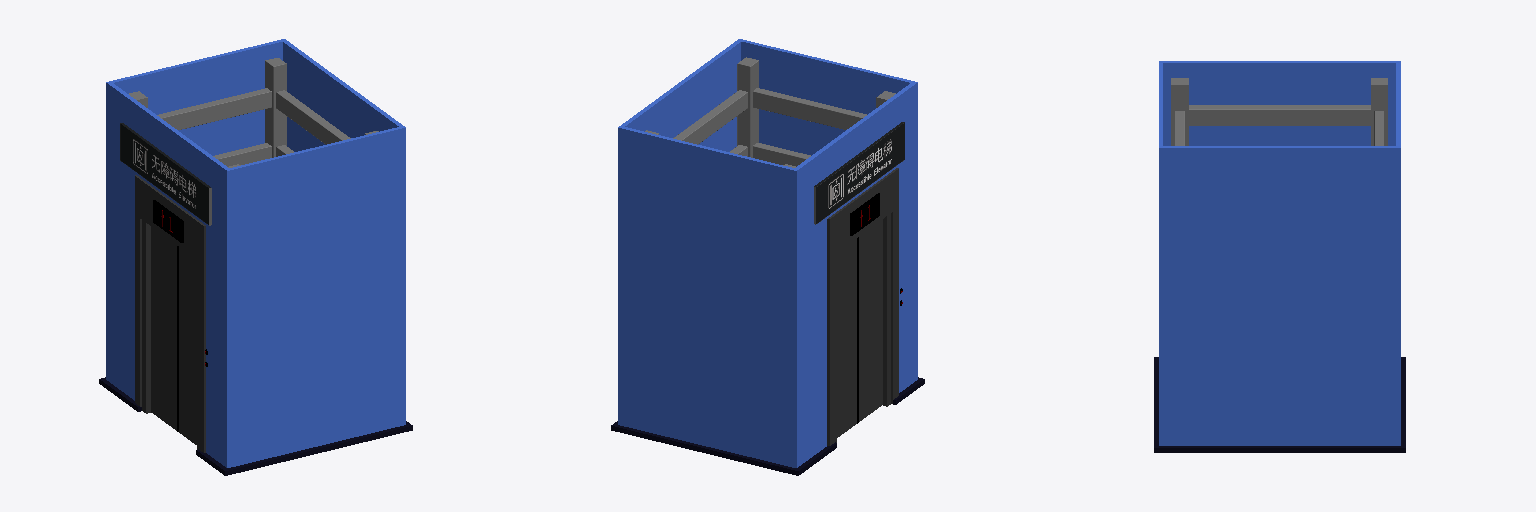
The picture shows the model from 3 angles: view 1: azimuth 30°, elevation 25°; view 2: azimuth 150°, elevation 25°; view 3: azimuth 270°, elevation 25°; orthographic projection.
Visible parts, largest first — view 1: Line085, Mesh112, Mesh115, ����11795, Mesh110, Mesh111; view 2: Line085, Mesh112, Mesh115, ����11795, Mesh110, Mesh111; view 3: Line085, Mesh115, Mesh110.
Part boxes in pixels (x1,y1,x2,y2): Line085: (106, 39, 405, 467); Mesh112: (135, 175, 205, 452); Mesh115: (129, 58, 378, 167); ����11795: (120, 123, 211, 225); Mesh110: (99, 377, 412, 475); Mesh111: (153, 200, 207, 431); Line085: (618, 39, 917, 467); Mesh112: (827, 168, 898, 445); Mesh115: (645, 57, 895, 167); ����11795: (814, 122, 904, 224); Mesh110: (611, 377, 924, 475); Mesh111: (850, 193, 902, 423); Line085: (1159, 61, 1400, 445); Mesh115: (1171, 78, 1387, 145); Mesh110: (1154, 357, 1405, 452).
Bounding box in the file's own units: 94.57 × 146 × 110.
Materials: 7 (1 with a texture image).